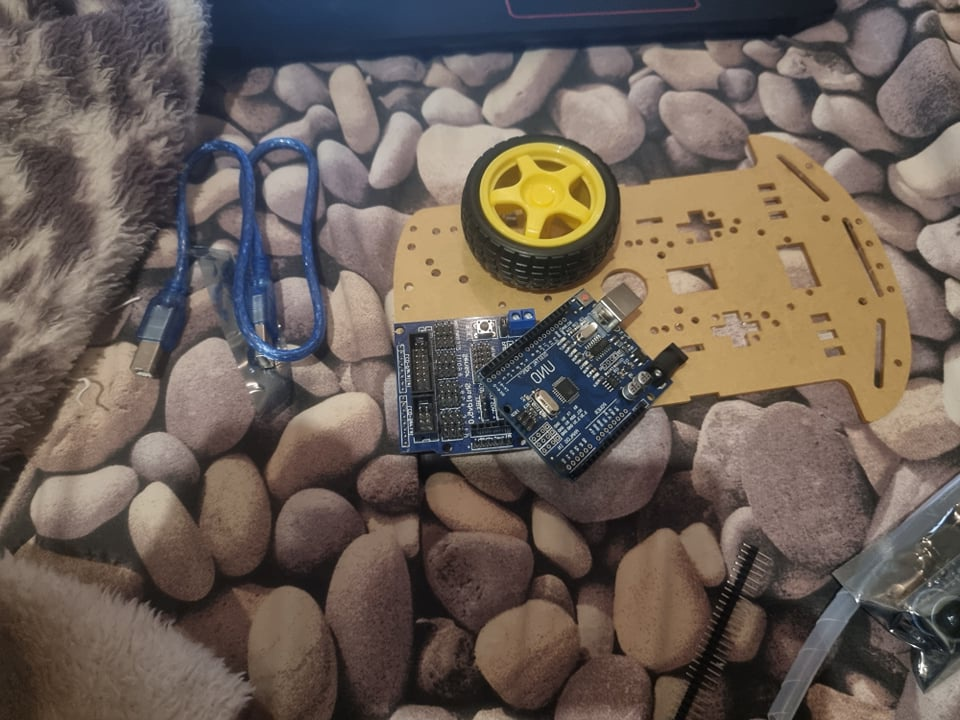5V EXPANSION: (394, 307, 538, 454)
UNO R3: (478, 285, 688, 480)
